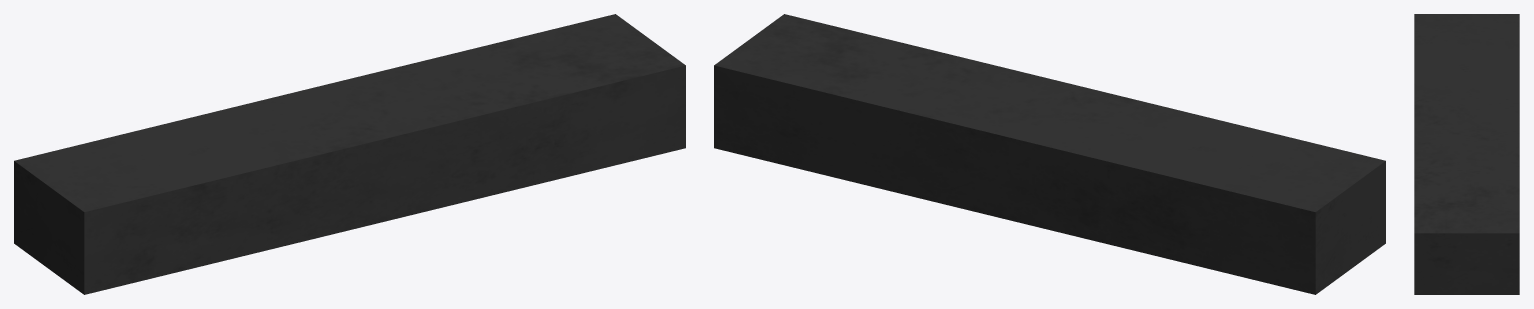
File: VentMiddlePiece.fbx
3 renders of one model, left to right at view 1: azimuth 30°, elevation 25°; view 2: azimuth 150°, elevation 25°; view 3: azimuth 270°, elevation 25°, orthographic. The views are drawn at different scales.
Parts seen in each view (by area): view 1: VentMiddlePiece; view 2: VentMiddlePiece; view 3: VentMiddlePiece.
Part boxes in pixels (<box>): VentMiddlePiece: <box>14,14,685,294</box>; VentMiddlePiece: <box>714,14,1385,294</box>; VentMiddlePiece: <box>1414,14,1519,294</box>.
Bounding box in the file's own units: 104 × 13.66 × 21.05.
